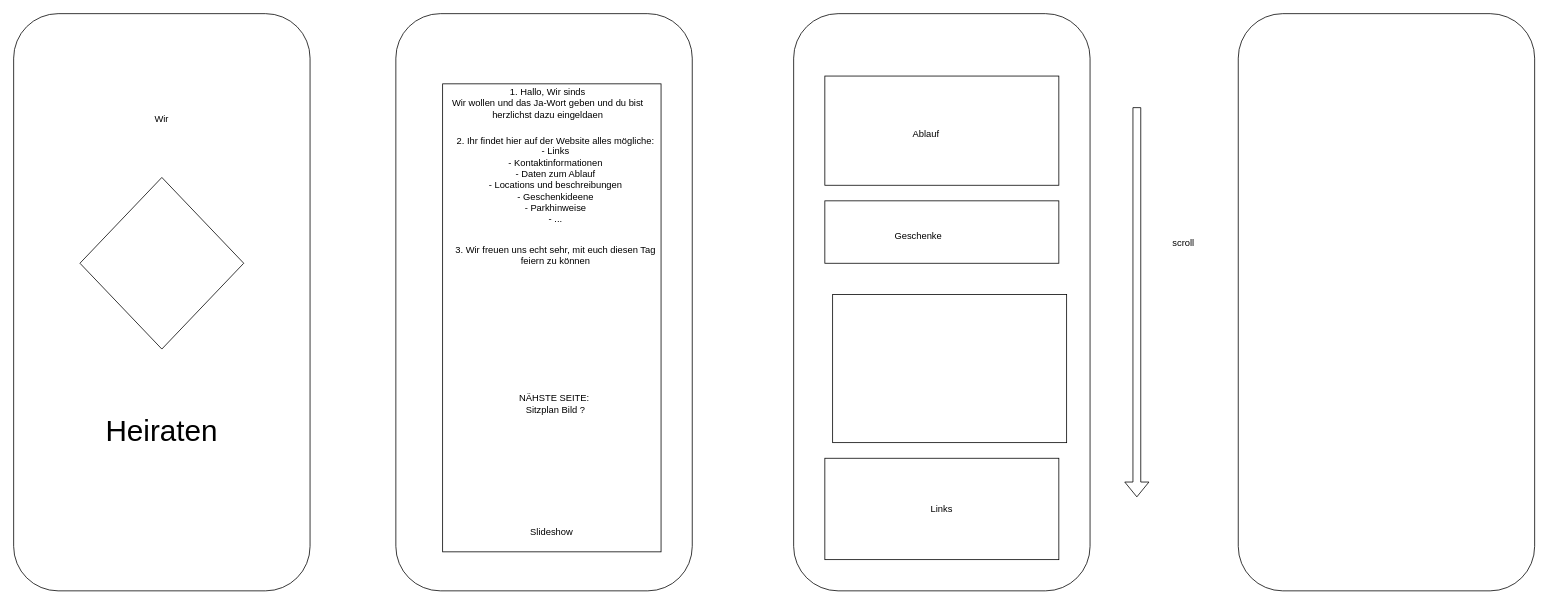
The diagram is 1548 pixels wide and 605 high, and some of its shapes have lost their labels. Here are the shapes that lost their labels. From the top down, the box of each, then its label:
(1237, 13, 1535, 591): countdown
(832, 294, 1067, 443): kontakte
